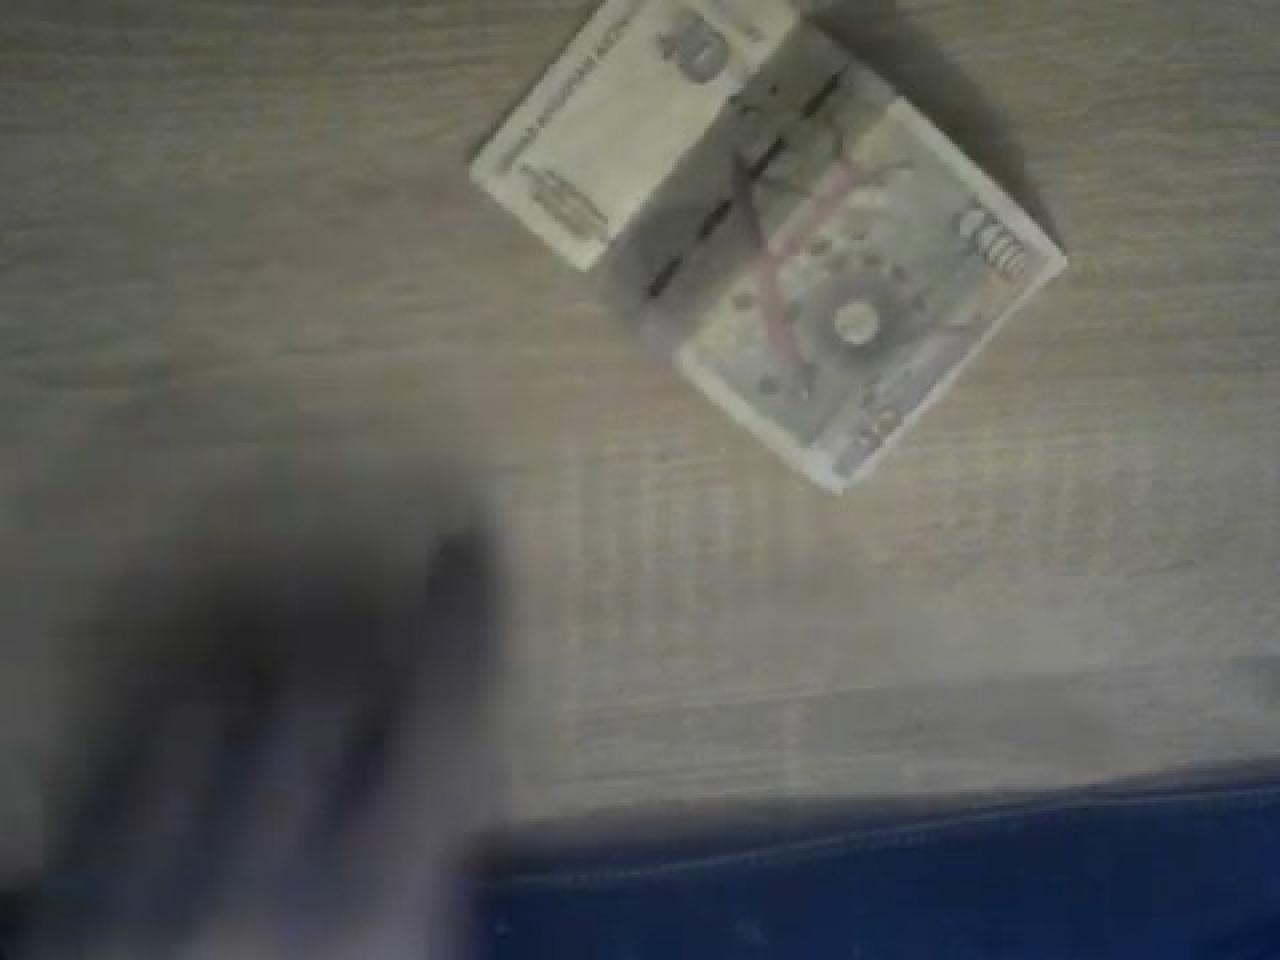10leva: (464, 0, 1069, 493)
